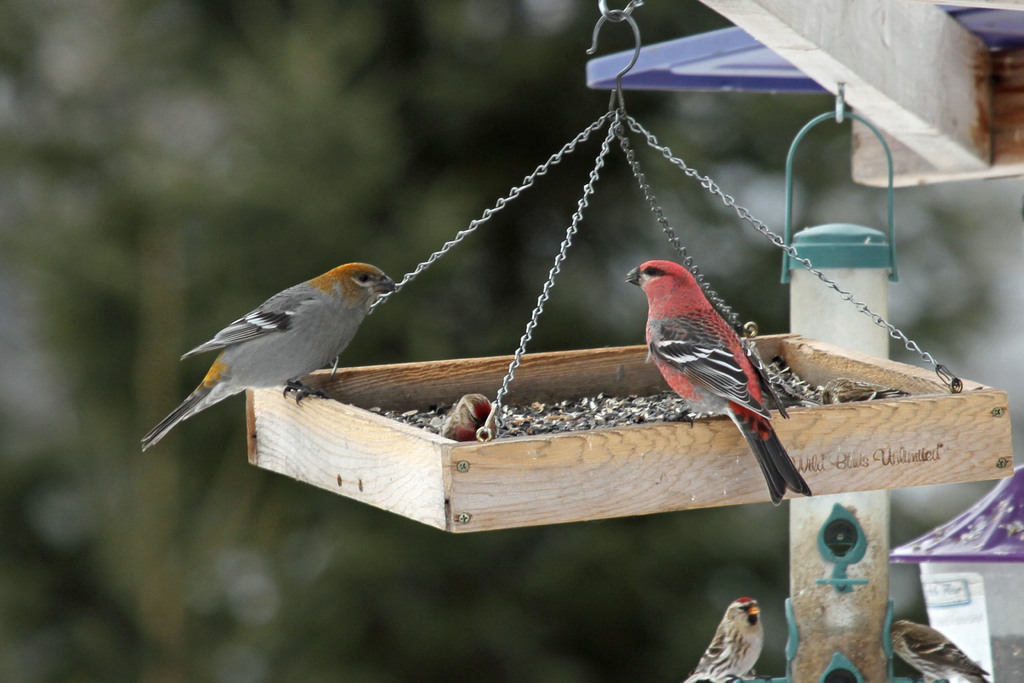Bird: (140, 261, 403, 452), (622, 258, 816, 506), (680, 597, 764, 683), (890, 618, 992, 683), (440, 394, 497, 443)
